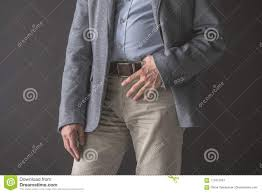F_belt: (98, 54, 175, 88)
